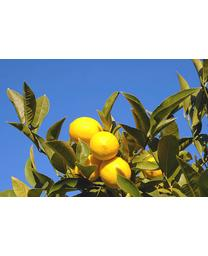lemon: (68, 117, 102, 148), (90, 130, 118, 160), (100, 155, 131, 182)
